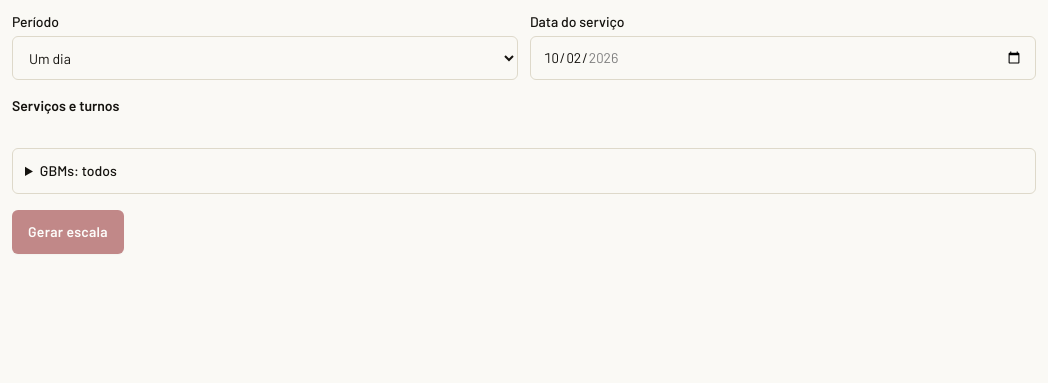
Test: fluxo simples de geração › informa quando a data já está preenchida, sem publicar nada
The image size is (1048, 383).
In the date field labelled "Data do serviço": x=783, y=58 top-left (530, 36), bottom-right (1036, 80), type "2026-09-26"
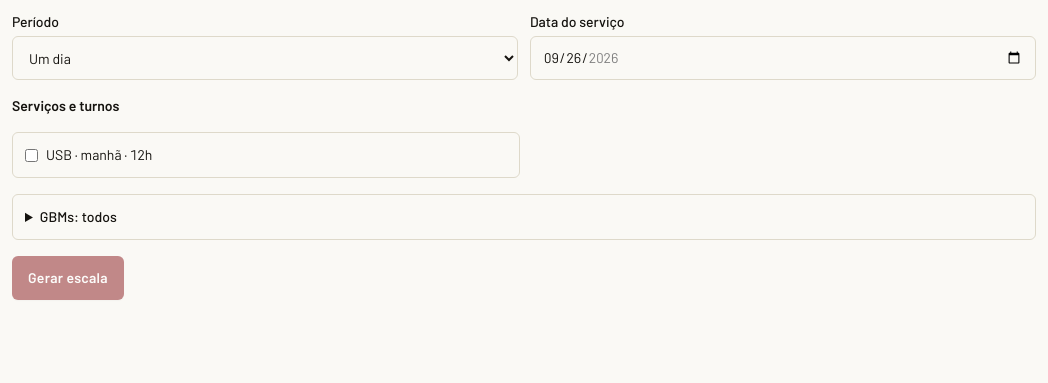
Click the checkbox labelled "USB · manhã · 12h": x=32, y=155 top-left (25, 148), bottom-right (38, 162)
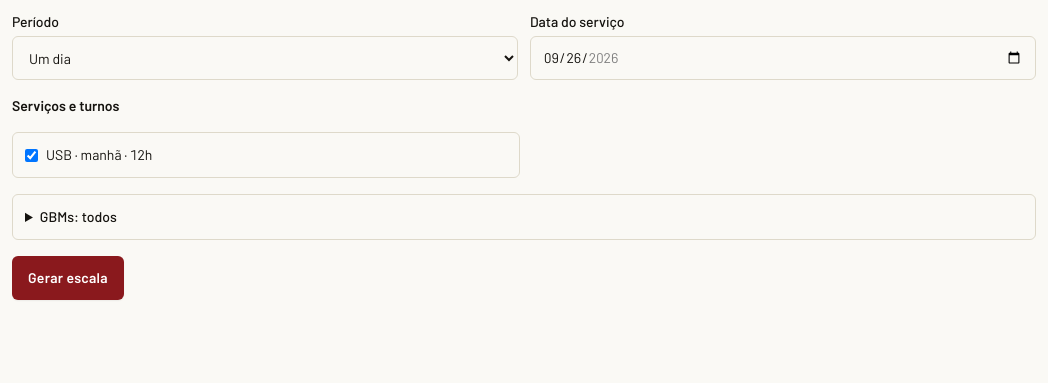
Click the button "Gerar escala": x=68, y=278 top-left (12, 256), bottom-right (124, 300)
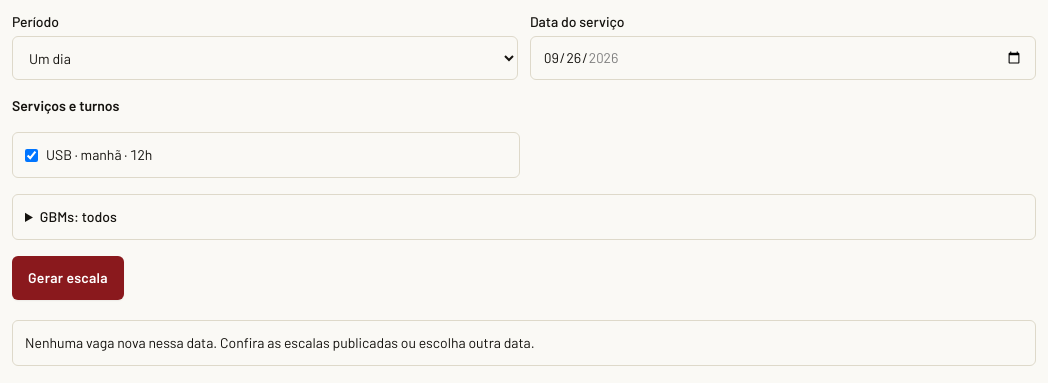
Expected: the message shows "Nenhuma vaga nova", top-left (25, 334), bottom-right (535, 351)
